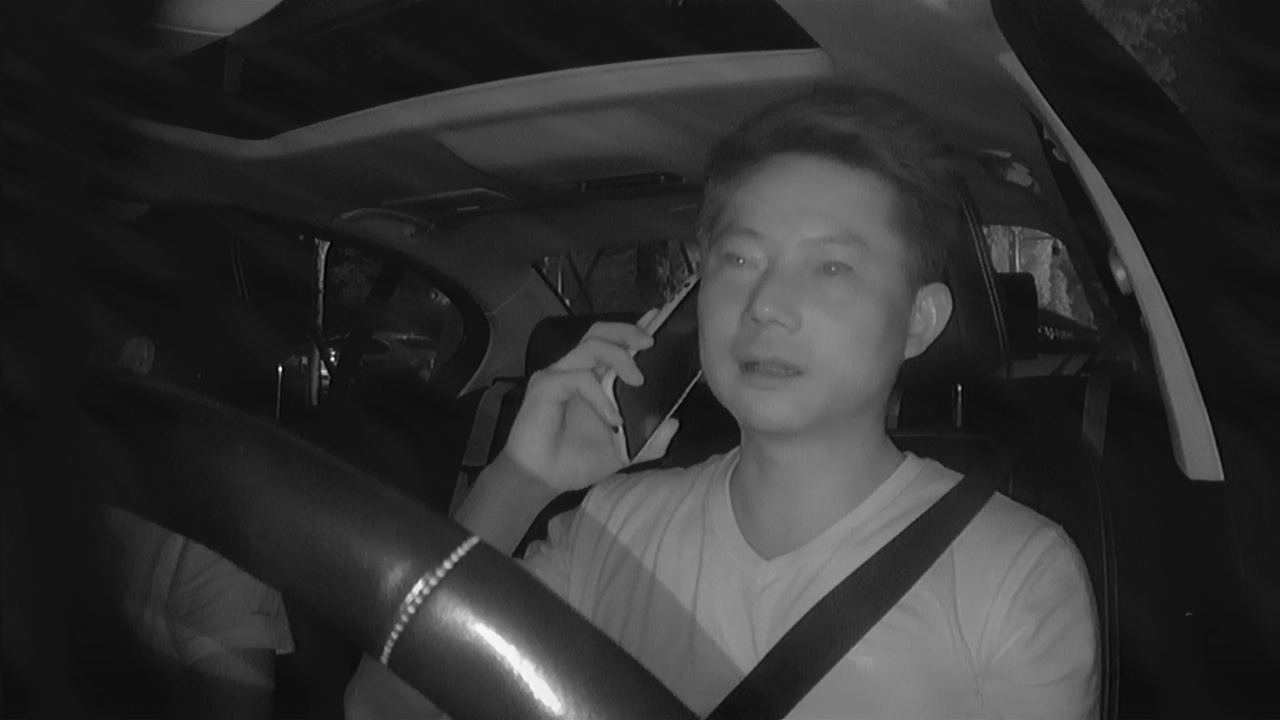hand: (508, 303, 690, 489)
